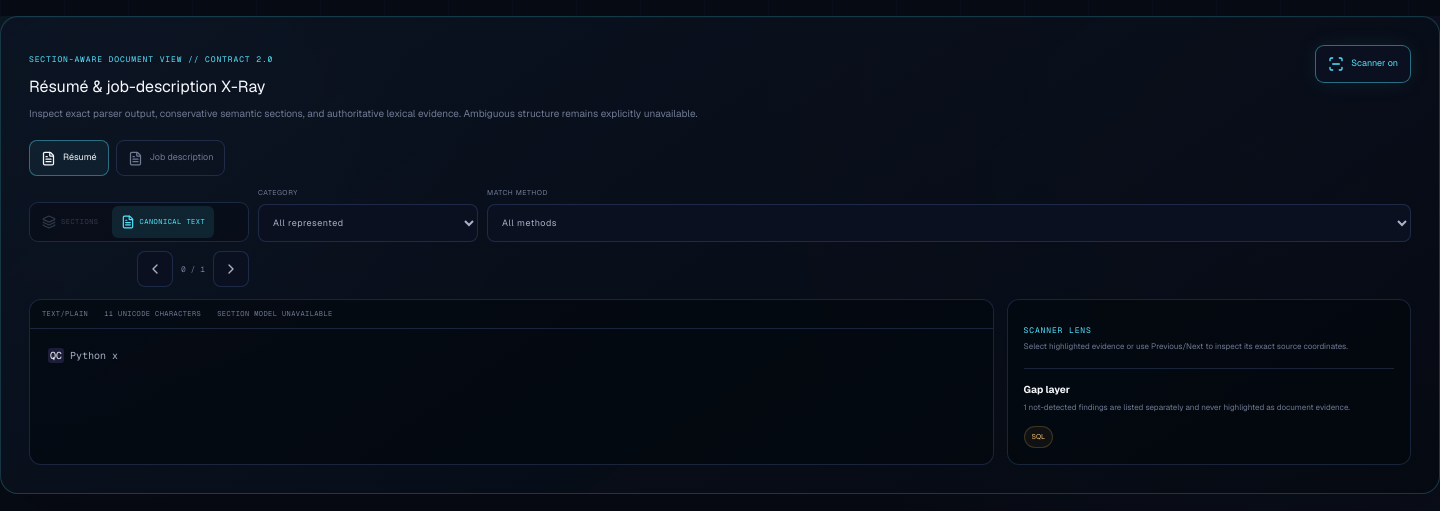
Test: DocumentXRay › reconstructs exact text, highlights represented evidence only, and switches sources
Expected: the element named "Résumé canonical text" shows "QC Python x", left=29, top=298, right=994, bottom=465
Expected: the button "QC" is shown, left=48, top=348, right=64, bottom=363
Click the tab "Job description". click: coordinates (170, 158)
box: left=116, top=140, right=225, bottom=176
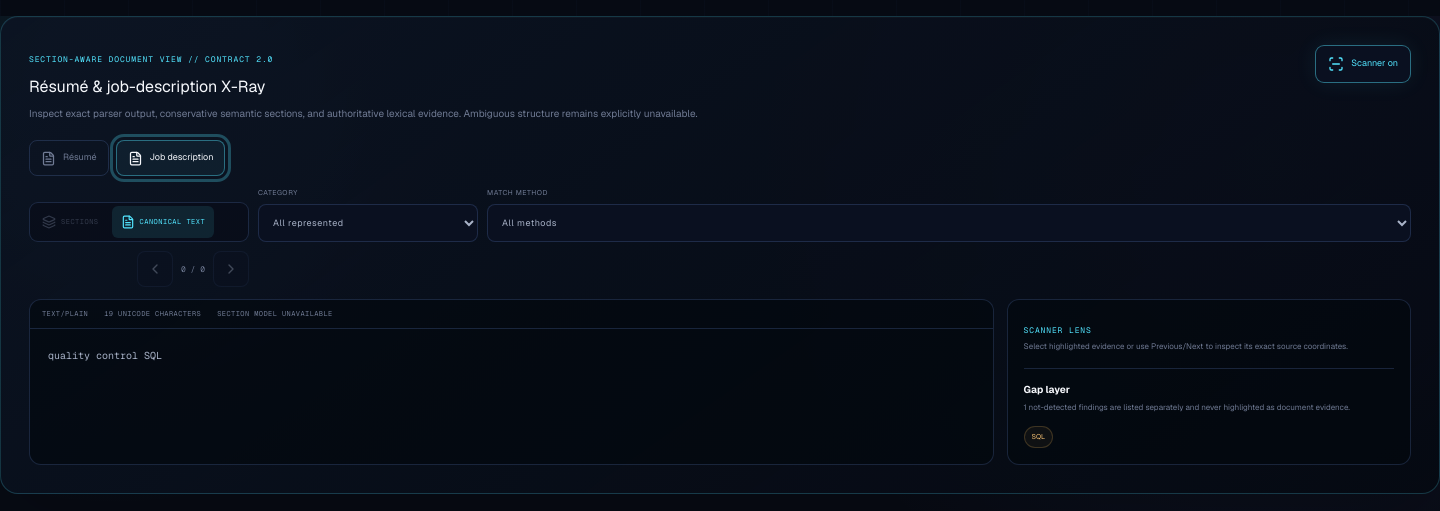
Now the element named "Job description canonical text" shows "quality control SQL", box left=48, top=349, right=162, bottom=362
